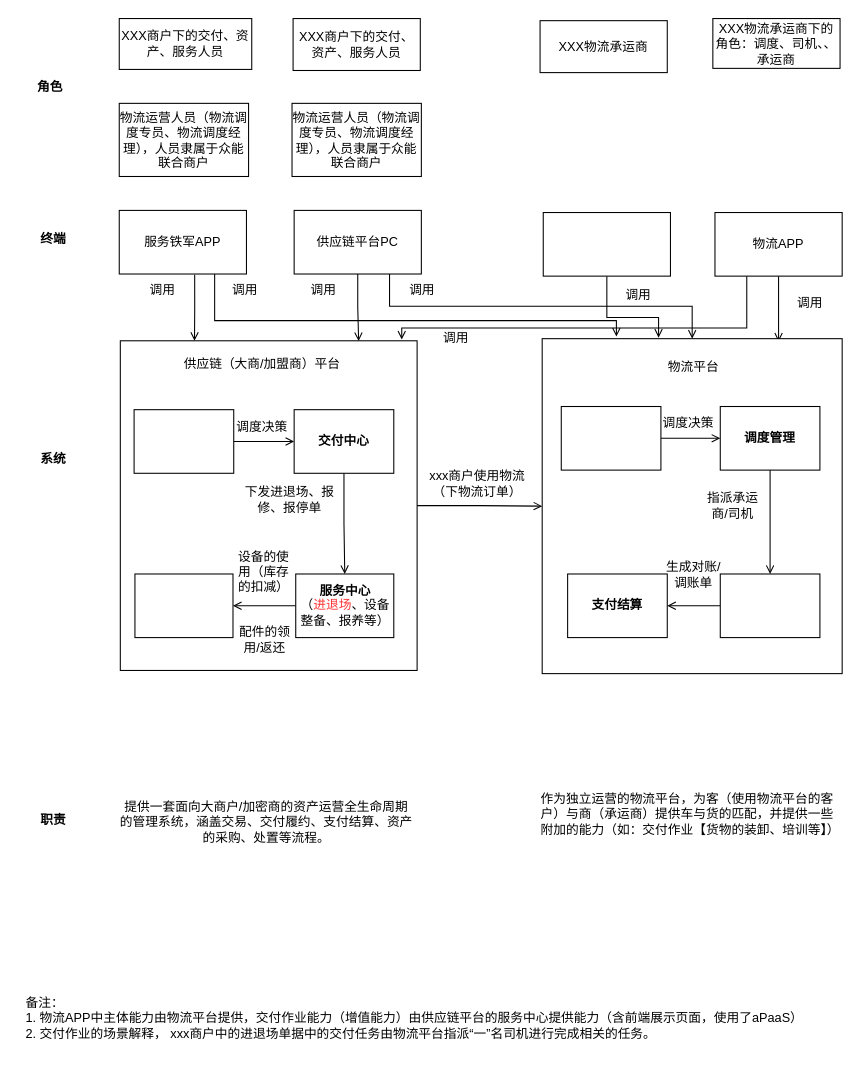
Some shapes in this 861 by 1085 pixel diagram are drawn without their labels. Each missing label, with the centre of its shape:
交易中心 （订单、商品、合同）: the point at 183,441
交易管理 （订单、商品、合同）: the point at 610,437
承运商PC: the point at 606,243
资产中心 （设备、库存、配件）: the point at 183,605
运输管理: the point at 769,605
